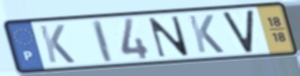4: (119, 16, 152, 62)
I: (89, 19, 115, 65)
K: (37, 24, 78, 65), (186, 14, 227, 55)
N: (147, 14, 192, 59)
V: (220, 8, 255, 55)
